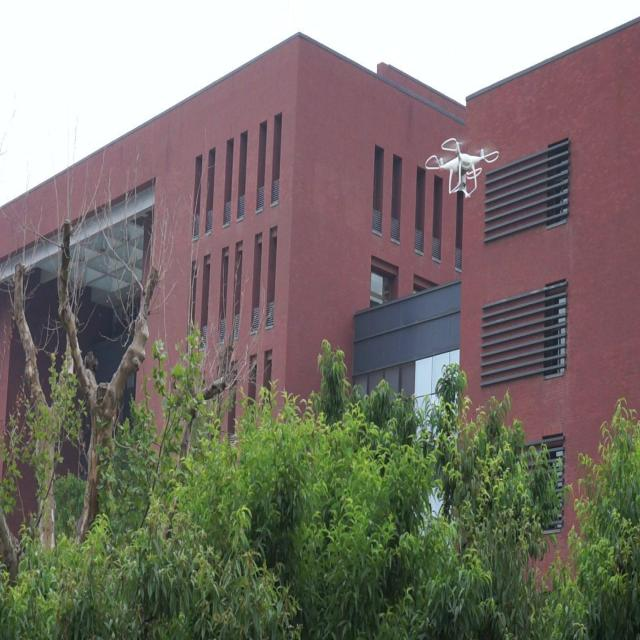UAV: (425, 138, 499, 199)
